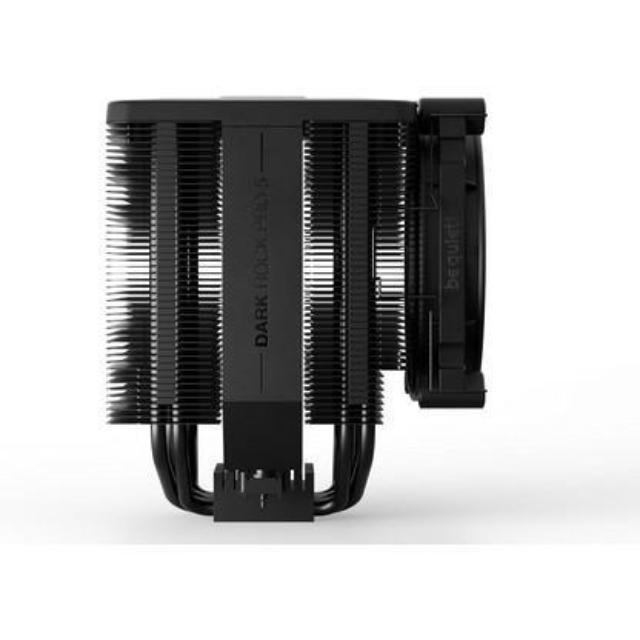CPU_Fan: (109, 100, 480, 522)
